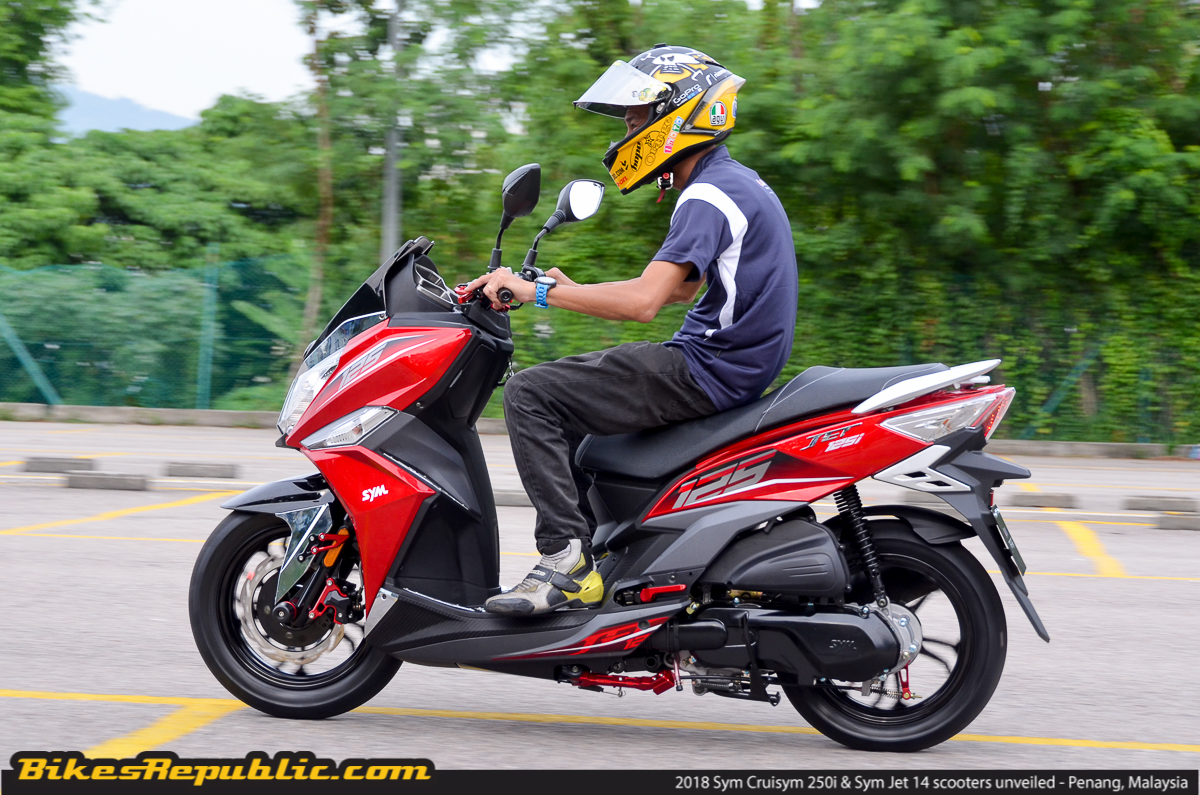with_helmet: (558, 47, 746, 178)
